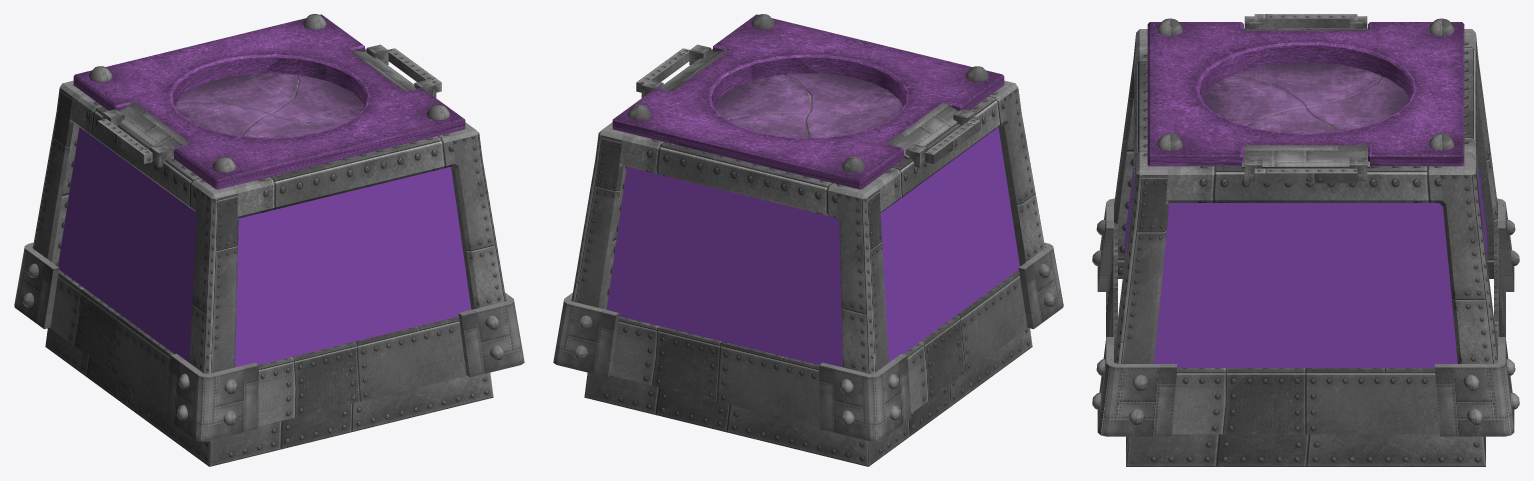
Rendered from static.glb.
3 renders of one model, left to right at view 1: azimuth 30°, elevation 25°; view 2: azimuth 150°, elevation 25°; view 3: azimuth 270°, elevation 25°, orthographic. The views are drawn at different scales.
Visible parts, largest first — view 1: Plane, Boole, Plane_2, frame, Cube_4, Cube_3, frame_2, Cube_7, frame_3, Cube_6, Cube_8, Extrude_6 (+8 smaller); view 2: Plane_3, Boole, Plane_2, frame_3, Cube_10, Cube_3, frame_2, Cube_7, frame_4, Cube_14, Cube_12, Extrude (+8 smaller); view 3: Plane_4, Boole, Cube_13, frame_4, Cube_3, frame, Cube_5, Cube_15, frame_3, Extrude_4, Extrude, Cube (+11 smaller).
Boxes of the visible parts, x1,y1,x2,y2 form: Plane: [235, 167, 471, 367]; Boole: [73, 14, 465, 189]; Plane_2: [58, 127, 197, 362]; frame: [231, 122, 506, 309]; Cube_4: [258, 316, 466, 426]; Cube_3: [45, 75, 493, 466]; frame_2: [70, 90, 238, 433]; Cube_7: [50, 270, 173, 413]; frame_3: [33, 80, 79, 266]; Cube_6: [458, 300, 524, 377]; Cube_8: [201, 362, 258, 441]; Extrude_6: [177, 73, 297, 114]; Plane_3: [606, 167, 842, 367]; Boole: [612, 14, 1004, 189]; Plane_2: [880, 127, 1019, 362]; frame_3: [620, 132, 888, 433]; Cube_10: [611, 316, 819, 426]; Cube_3: [584, 75, 1032, 466]; frame_2: [869, 80, 1044, 266]; Cube_7: [904, 270, 1027, 413]; frame_4: [571, 49, 712, 309]; Cube_14: [553, 300, 619, 377]; Cube_12: [819, 362, 876, 441]; Extrude: [786, 73, 901, 115]; Plane_4: [1154, 203, 1457, 367]; Boole: [1147, 22, 1464, 166]; Cube_13: [1172, 368, 1439, 434]; frame_4: [1165, 157, 1497, 363]; Cube_3: [1126, 77, 1485, 466]; frame: [1114, 39, 1169, 363]; Cube_5: [1101, 363, 1177, 436]; Cube_15: [1434, 363, 1510, 436]; frame_3: [1464, 29, 1497, 278]; Extrude_4: [1233, 62, 1381, 107]; Extrude: [1202, 75, 1305, 125]; Cube: [1254, 14, 1357, 183].
Bounding box in the file's own units: 2.05 × 1.66 × 2.05.
4 materials, 3 textured.
